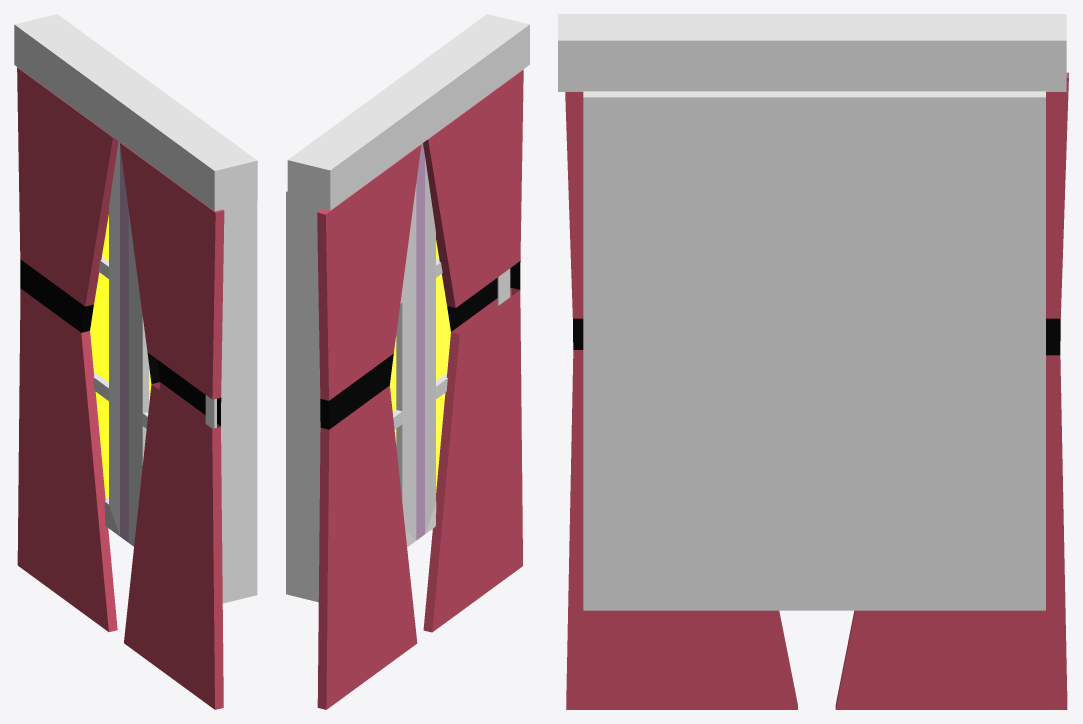
The model's file is Window_002.fbx.
The picture shows the model from 3 angles, left to right: view 1: azimuth 30°, elevation 25°; view 2: azimuth 150°, elevation 25°; view 3: azimuth 270°, elevation 25°; orthographic projection. The views are drawn at different scales.
Visible parts, largest first — view 1: Window.002; view 2: Window.002; view 3: Window.002.
Part boxes in pixels (bbox=[...]): Window.002: bbox=[14, 14, 257, 709]; Window.002: bbox=[286, 14, 529, 709]; Window.002: bbox=[558, 14, 1068, 709].
Size of the model in its own units: 66.69 by 657 by 442.
